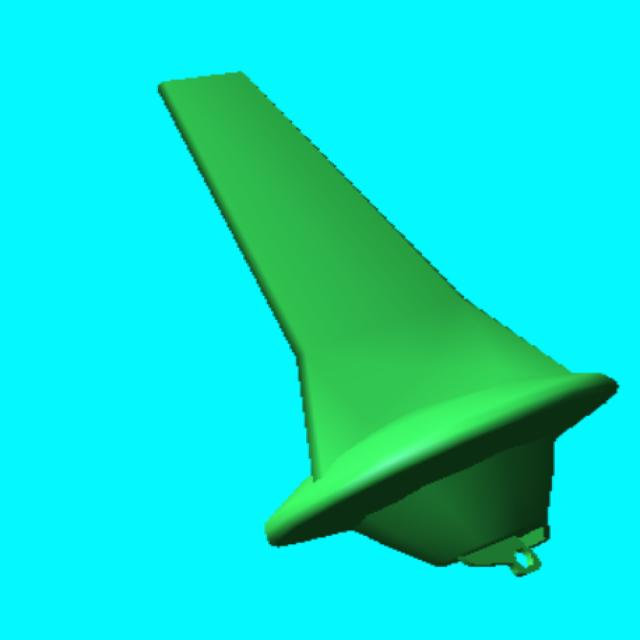GreenBuoy: (159, 72, 614, 575)
